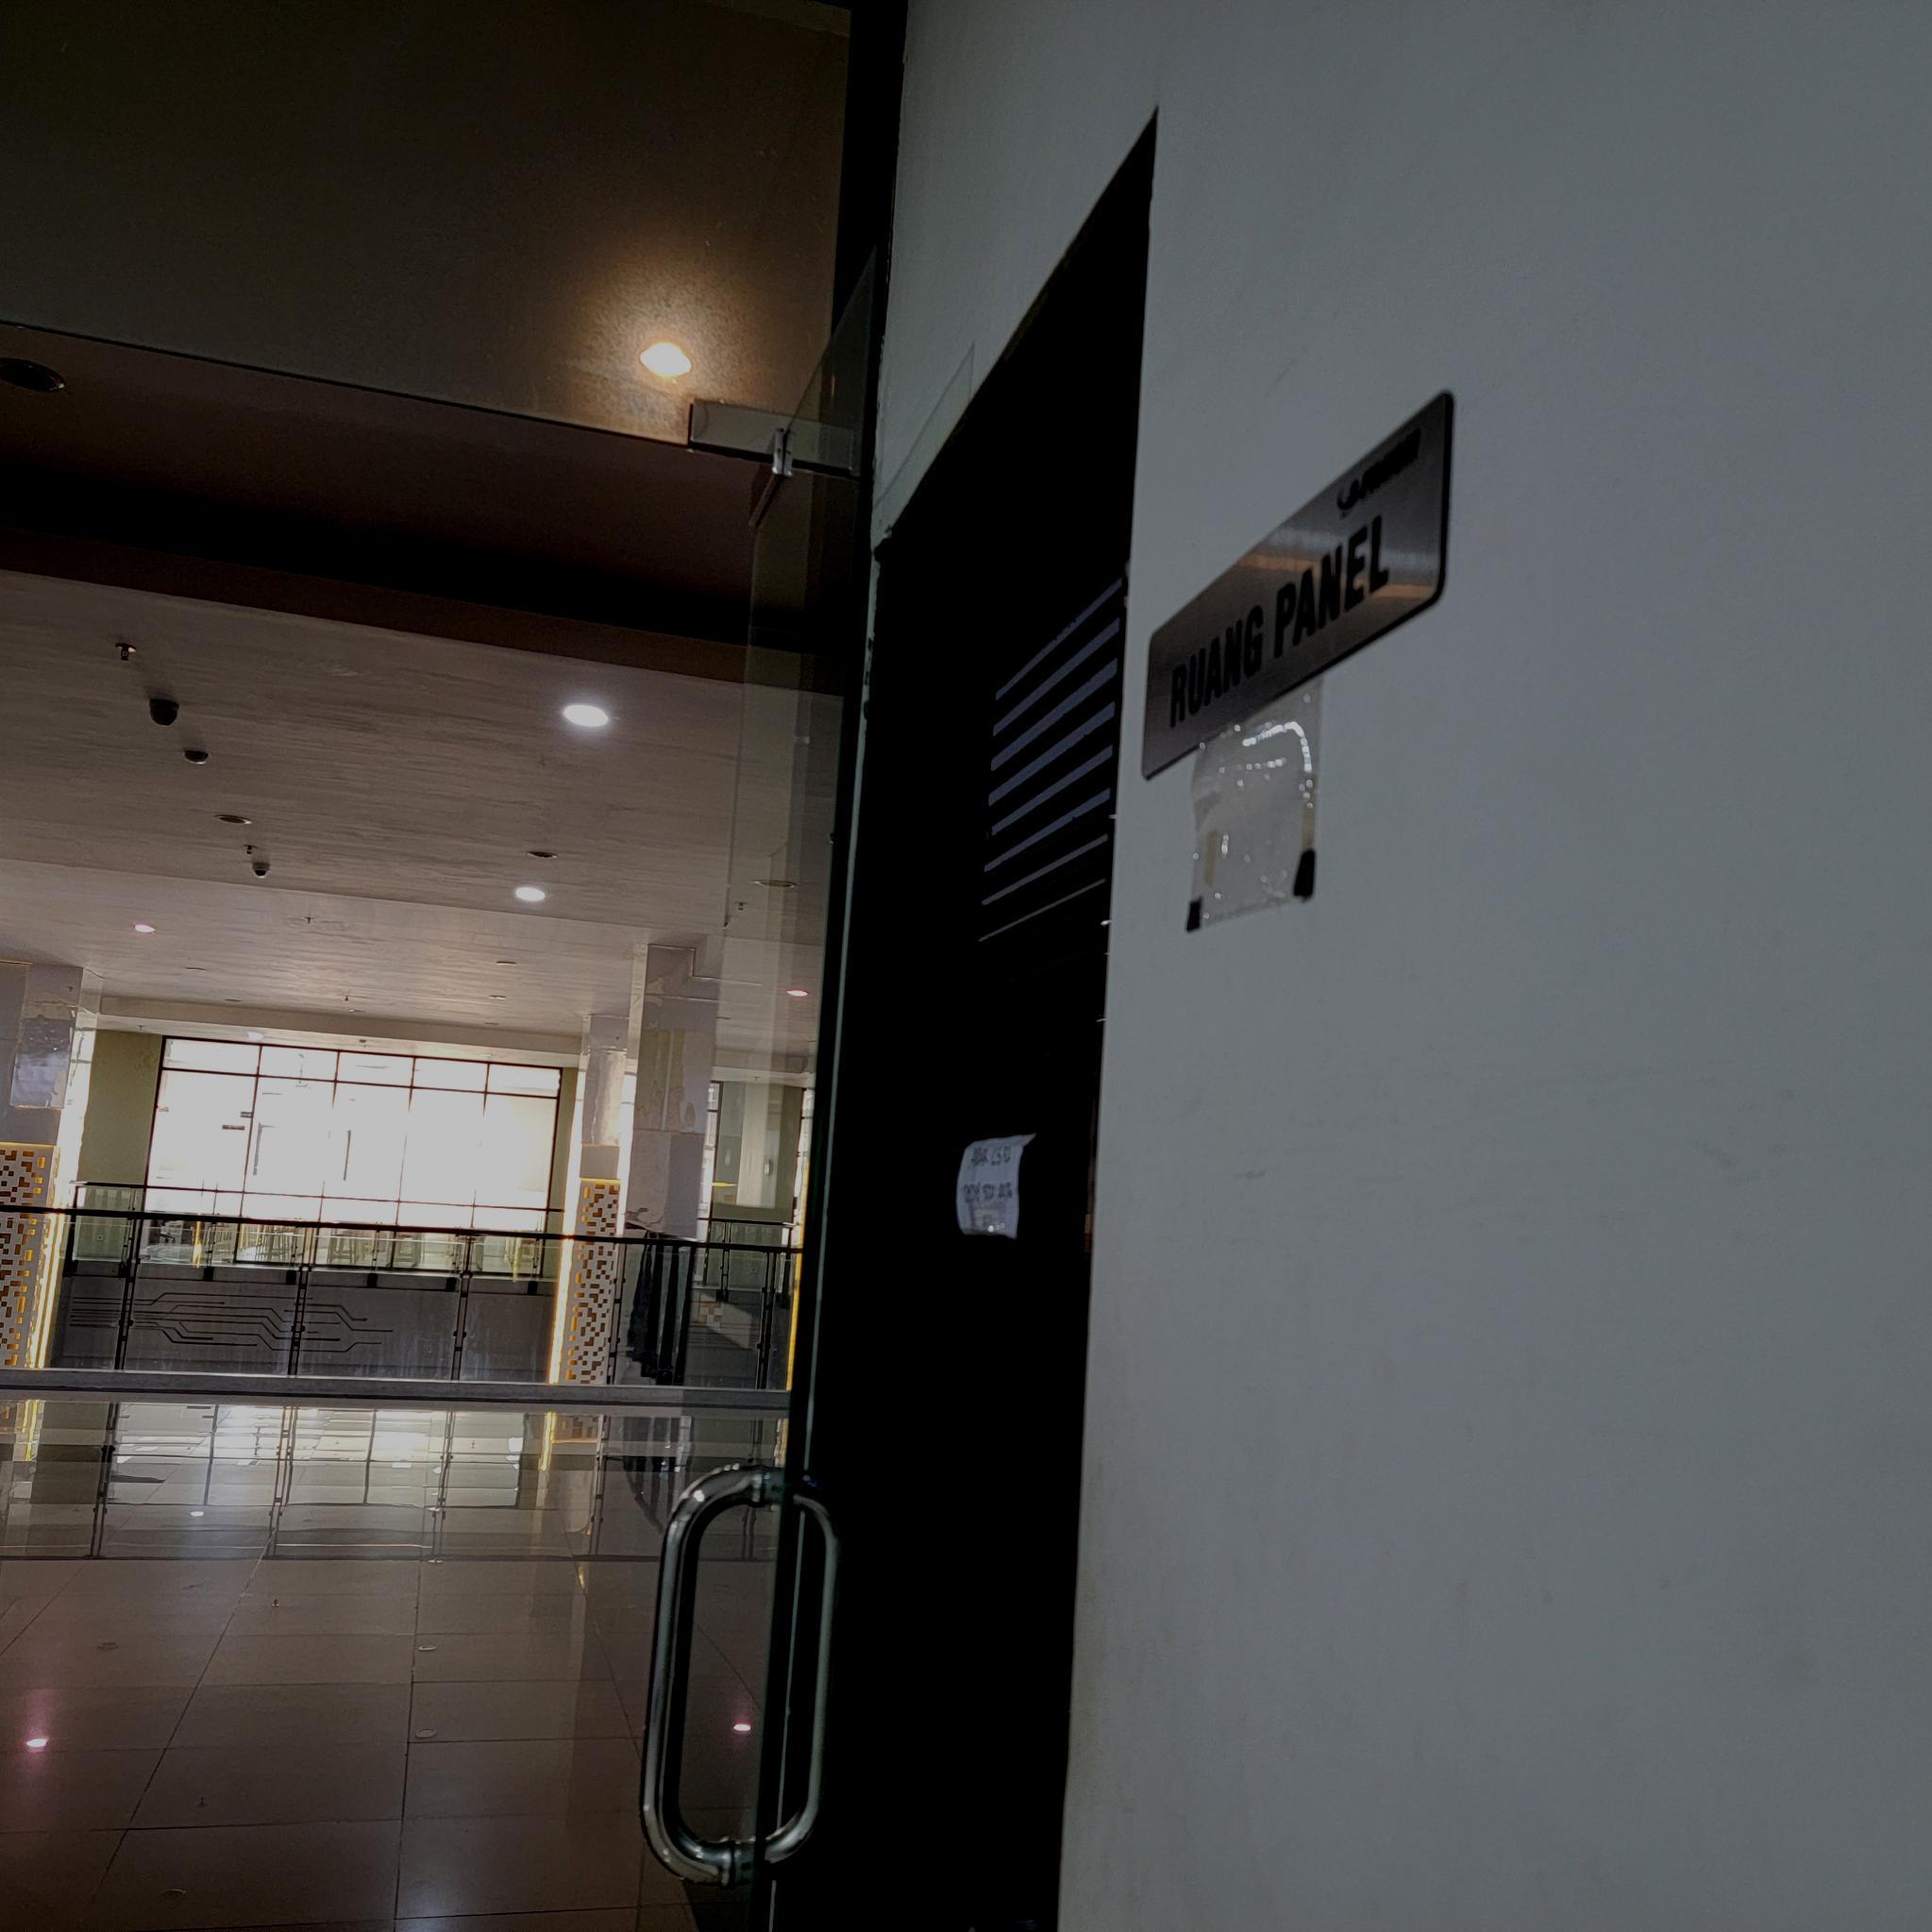plate: (1143, 391, 1453, 780)
